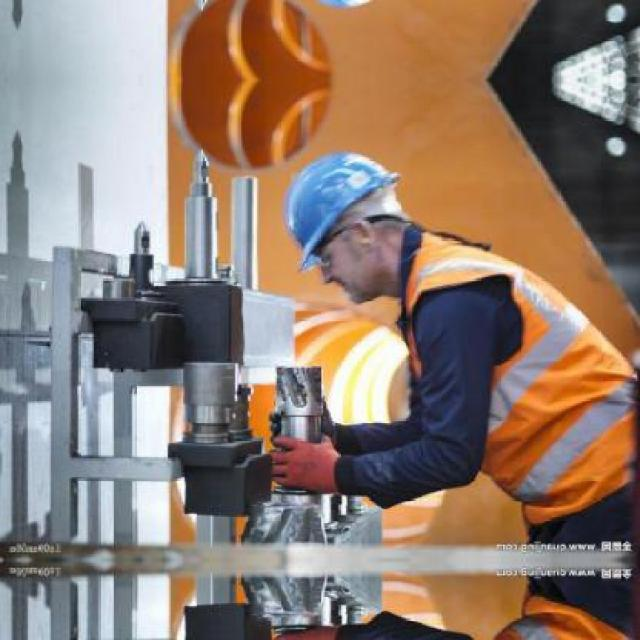Reflective-Jacket: (398, 229, 632, 522)
Safety-Helmet: (276, 147, 402, 270)
